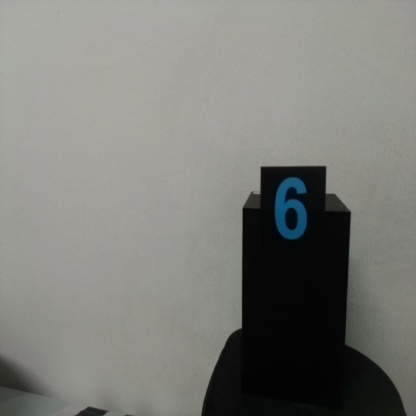id_6: (260, 167, 326, 271)
